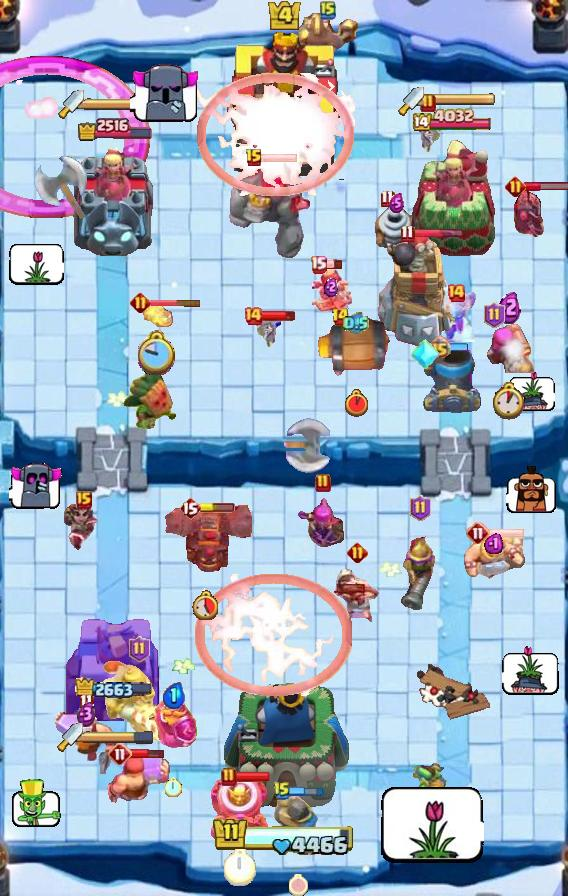archer-evolution: (298, 497, 348, 549)
axe: (32, 153, 90, 225), (277, 417, 333, 475)
bar: (412, 228, 464, 239), (148, 298, 202, 307), (524, 181, 568, 192), (488, 527, 525, 539), (261, 152, 298, 164), (235, 771, 271, 783), (260, 310, 296, 322), (130, 748, 165, 760), (289, 786, 324, 797), (199, 503, 235, 513), (449, 342, 468, 353), (324, 259, 343, 270)
bar-level: (108, 742, 132, 766), (466, 521, 490, 545), (129, 636, 150, 662), (410, 495, 431, 521), (484, 302, 505, 328), (428, 336, 451, 359), (179, 496, 201, 520), (347, 542, 368, 563), (130, 292, 151, 313), (505, 176, 526, 197), (243, 306, 263, 326), (446, 283, 466, 303), (331, 307, 350, 327), (273, 781, 291, 801), (245, 148, 263, 168), (310, 255, 327, 274), (221, 767, 237, 787), (315, 473, 331, 493), (420, 93, 436, 113), (320, 0, 336, 20), (76, 491, 92, 509), (79, 693, 94, 712), (400, 224, 415, 243), (380, 189, 395, 208)
barbarian-barrel: (316, 318, 396, 378)
clock: (138, 330, 177, 375), (491, 382, 527, 420), (224, 849, 256, 886), (192, 590, 218, 620), (345, 389, 368, 417), (289, 874, 308, 896), (165, 777, 182, 797)
dagger-duchess-tower: (66, 611, 162, 731), (409, 138, 497, 256), (70, 142, 158, 256)
dagger-duchess-tower-bar: (83, 730, 155, 744), (84, 97, 156, 111), (424, 93, 496, 107)
dart-goblin: (122, 362, 180, 432)
elite-barbarian: (460, 533, 526, 583)
elixir: (498, 289, 521, 324), (162, 682, 185, 709), (343, 312, 369, 335), (77, 701, 96, 727), (484, 532, 503, 554), (389, 193, 404, 213), (324, 277, 338, 297)
emote: (380, 785, 484, 864), (130, 62, 202, 126), (502, 644, 560, 696), (10, 779, 63, 830), (9, 461, 64, 510), (506, 465, 557, 514), (9, 243, 64, 285), (508, 370, 555, 412)
firecracker: (484, 319, 534, 373)
ice-spirit-evolution-symbol: (411, 337, 439, 371)
king-tower: (220, 678, 349, 826), (224, 29, 344, 181)
king-tower-bar: (212, 816, 356, 858)
knight: (272, 788, 325, 857)
knight-evolution: (149, 691, 198, 749)
lava-pup: (140, 301, 174, 333)
little-prince: (62, 504, 106, 552), (435, 292, 477, 342)
lumberjack: (54, 705, 118, 775), (100, 750, 170, 806)
mini-pekka: (509, 187, 551, 241)
mortar: (423, 349, 483, 413)
mortar-evolution: (208, 774, 272, 844)
musketeer: (399, 526, 441, 614)
princess: (333, 565, 381, 623), (309, 267, 353, 327)
skeleton-evolution: (256, 312, 282, 350), (415, 117, 441, 155)
spear-goblin: (400, 761, 448, 803)
tower-bar: (413, 108, 494, 134), (76, 116, 153, 142), (75, 677, 154, 701)
zappy: (373, 198, 419, 252)
